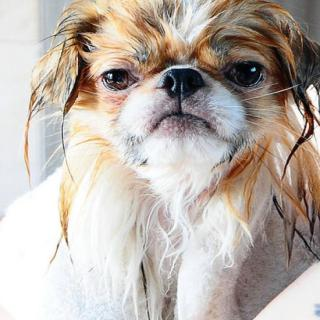dog: (25, 0, 320, 189)
nose: (152, 64, 208, 105)
